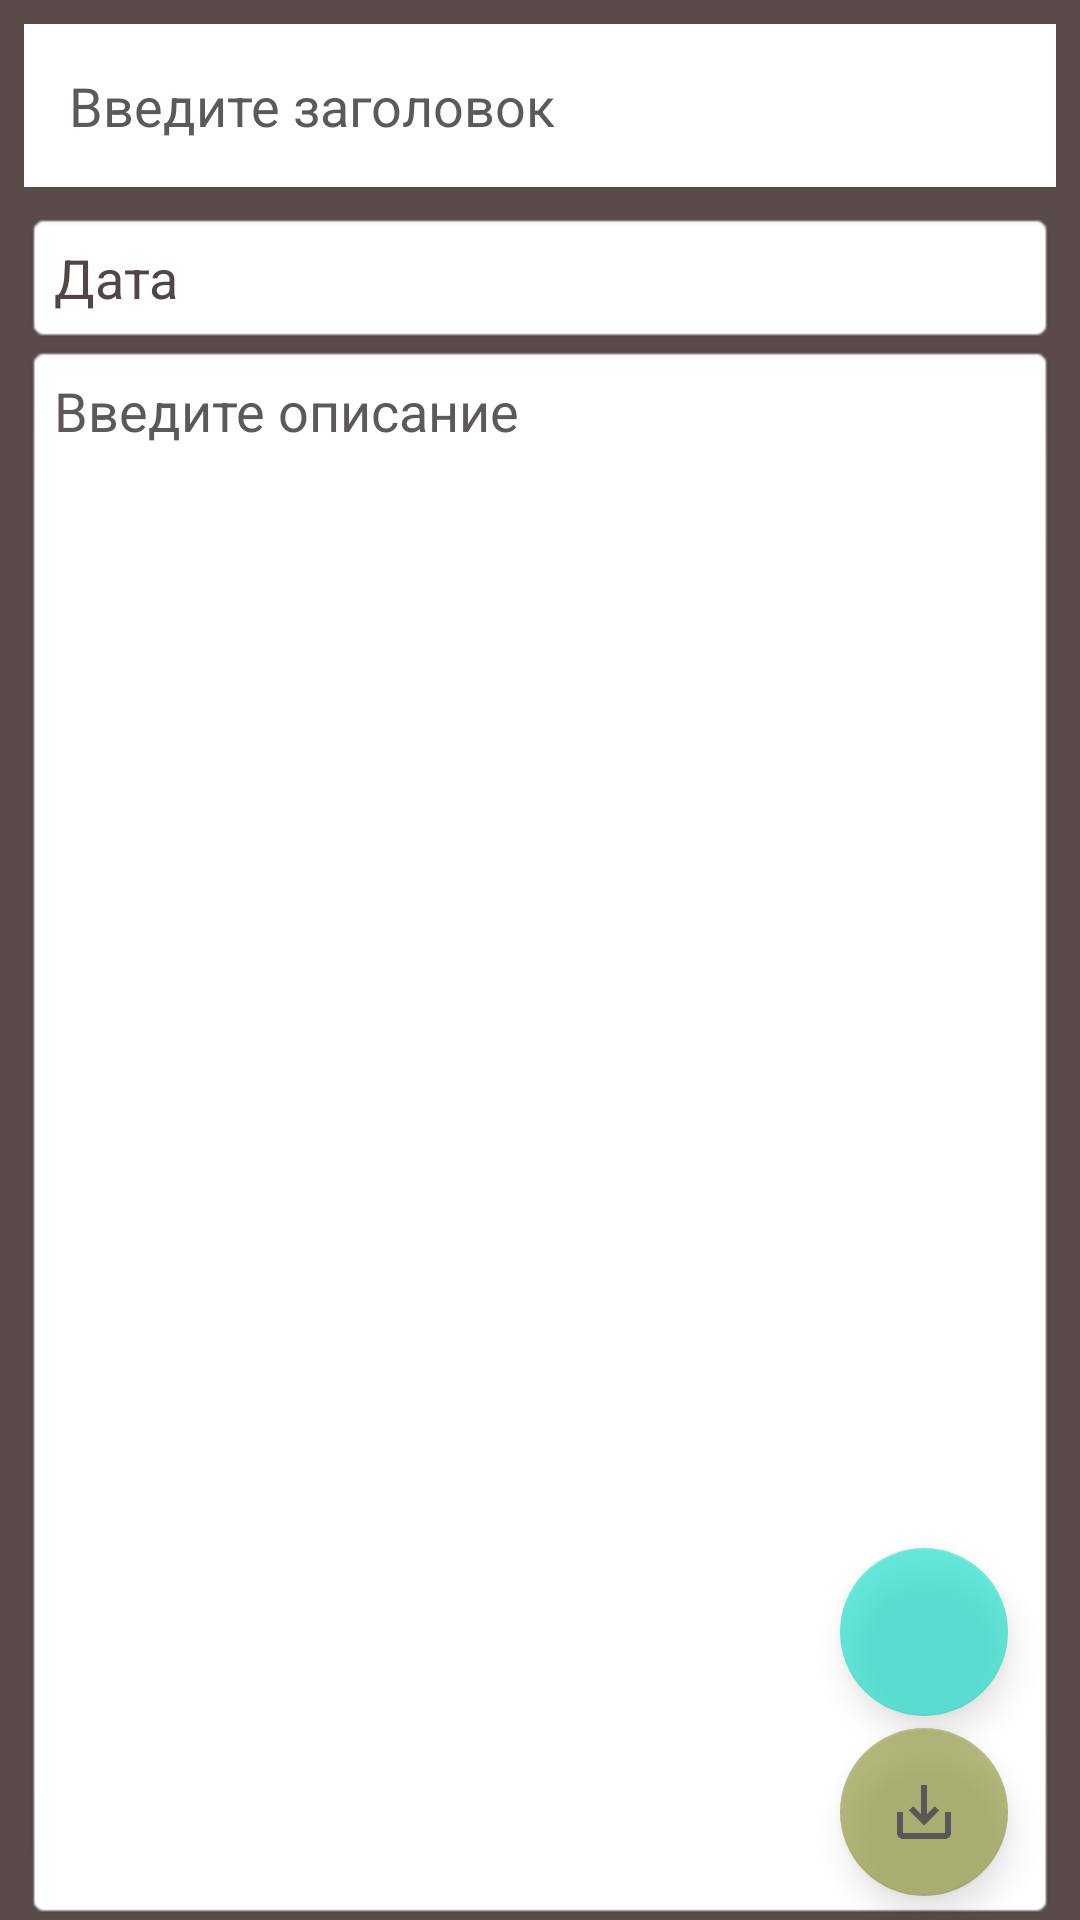

Icons on this 1080px×1920px Android screen, each with the point to tap as point (x, y):
save: point (924, 1812)
